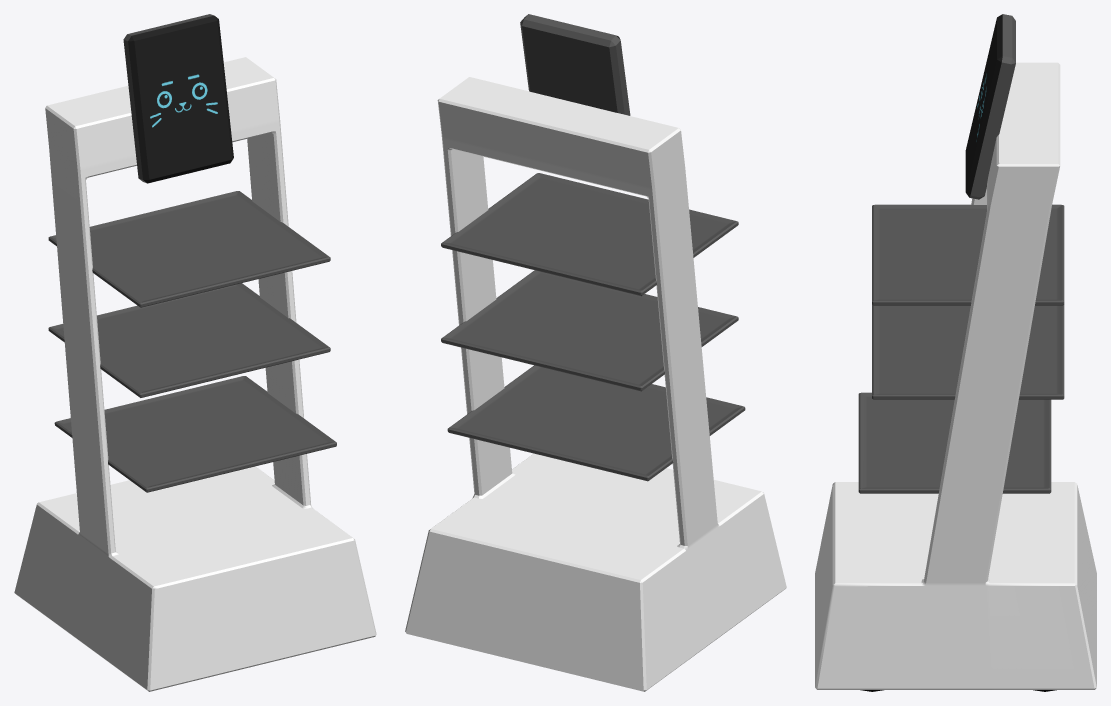
File: catBot.fbx
The picture shows the model from 3 angles, left to right: view 1: azimuth 30°, elevation 25°; view 2: azimuth 150°, elevation 25°; view 3: azimuth 270°, elevation 25°; orthographic projection. The views are drawn at different scales.
Parts seen in each view (by area): view 1: body, topTray, bottomTray, midTray, face; view 2: body, topTray, midTray, bottomTray, face; view 3: body, topTray, bottomTray, midTray, face.
Part boxes in pixels (<box>): body: <box>14,57,376,691</box>; topTray: <box>48,191,330,307</box>; bottomTray: <box>54,376,336,492</box>; midTray: <box>48,283,330,397</box>; face: <box>123,14,233,183</box>; body: <box>405,77,786,691</box>; topTray: <box>441,173,738,296</box>; midTray: <box>441,270,738,391</box>; bottomTray: <box>447,365,745,481</box>; face: <box>520,14,630,115</box>; body: <box>815,62,1096,689</box>; topTray: <box>872,204,1064,305</box>; bottomTray: <box>858,392,1051,493</box>; midTray: <box>872,305,1064,399</box>; face: <box>965,14,1015,199</box>.
Bounding box in the file's own units: 3.18 × 7.8 × 3.25.
Materials: 5 (1 with a texture image).
